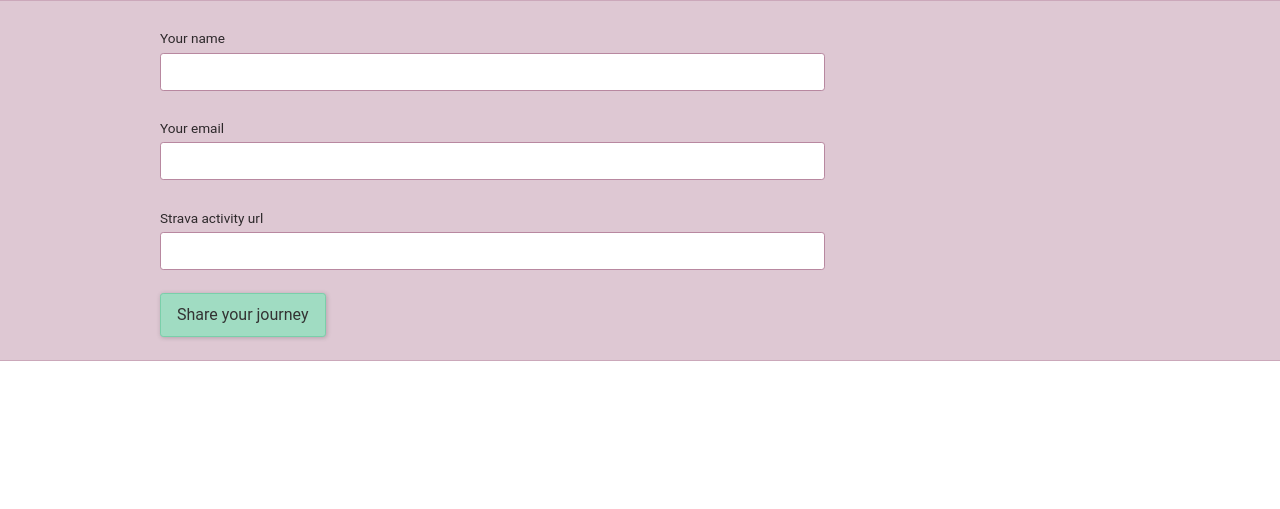
it: <LonelinessForm> › rejects incorrect emails
Step 1. Type "higgeldy-piggeldy" into the field labelled "Your email" → (492, 161), box [160,142,825,180]
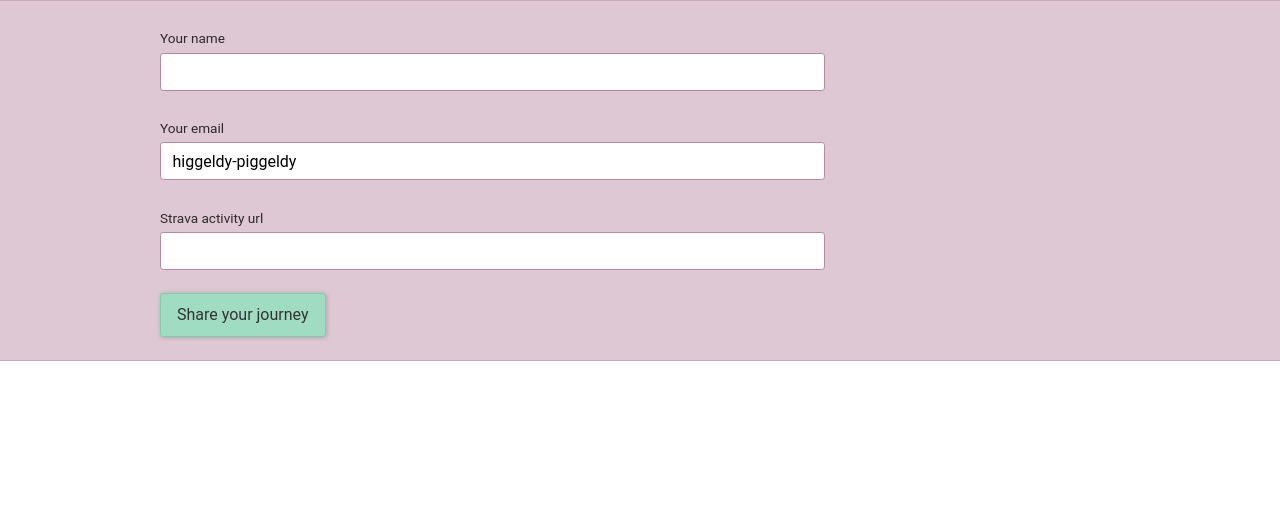
Step 2. Click the button "Share your journey" → (243, 315), box [160,293,326,337]
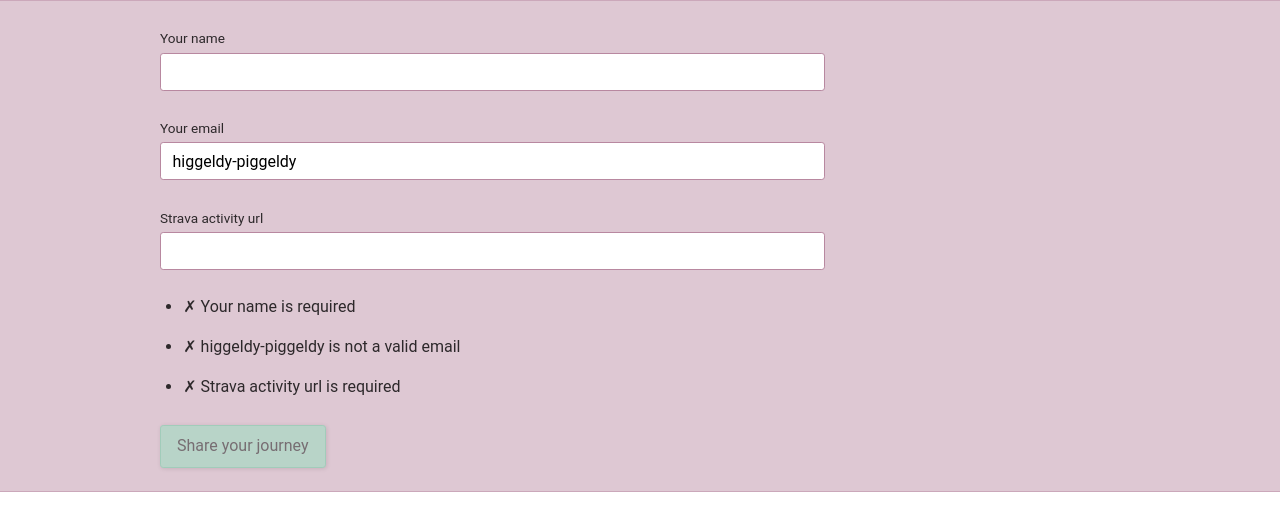
Now the button "Share your journey" is disabled, box [160,425,326,468]
Now the list item "higgeldy-piggeldy is not a valid email" is shown, box [201,337,460,356]
